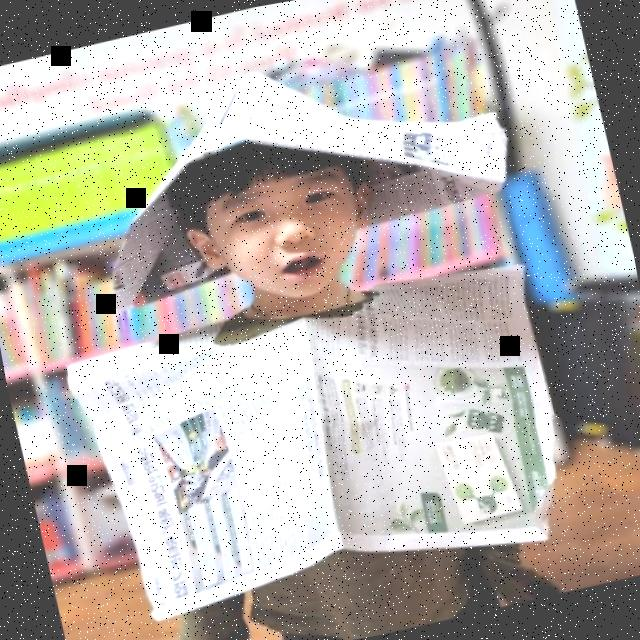reuseable_paper: (101, 280, 543, 611)
